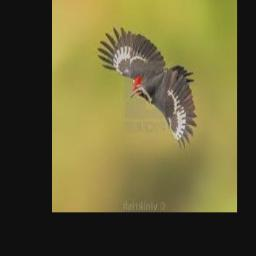Woodpecker: (97, 27, 197, 149)
